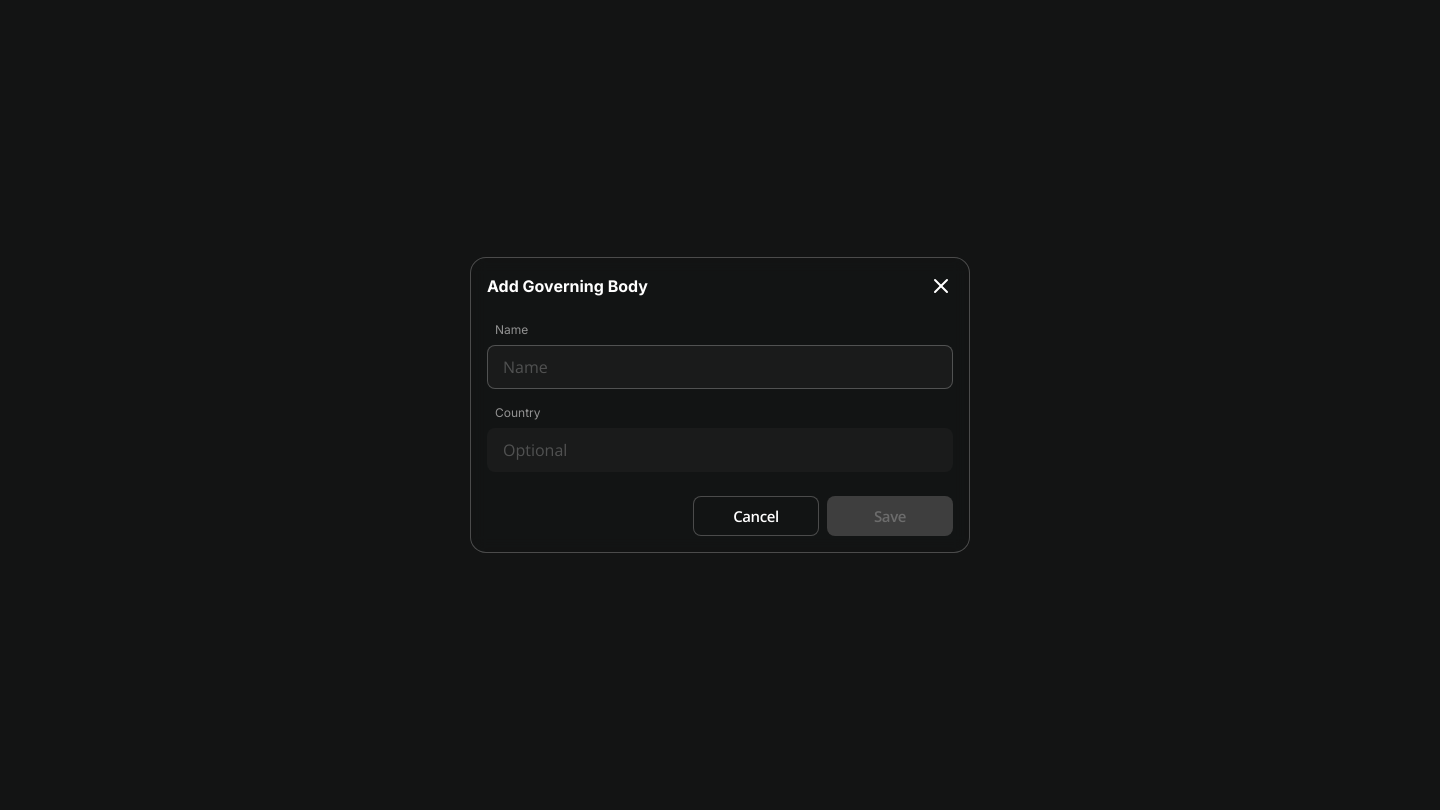
Test: EntityFormDialogComponent › asks for a name once the field has been typed in and cleared
Type "x" into the field with id "entity-name".
click(720, 367); type("x")  # box [503,345,937,389]
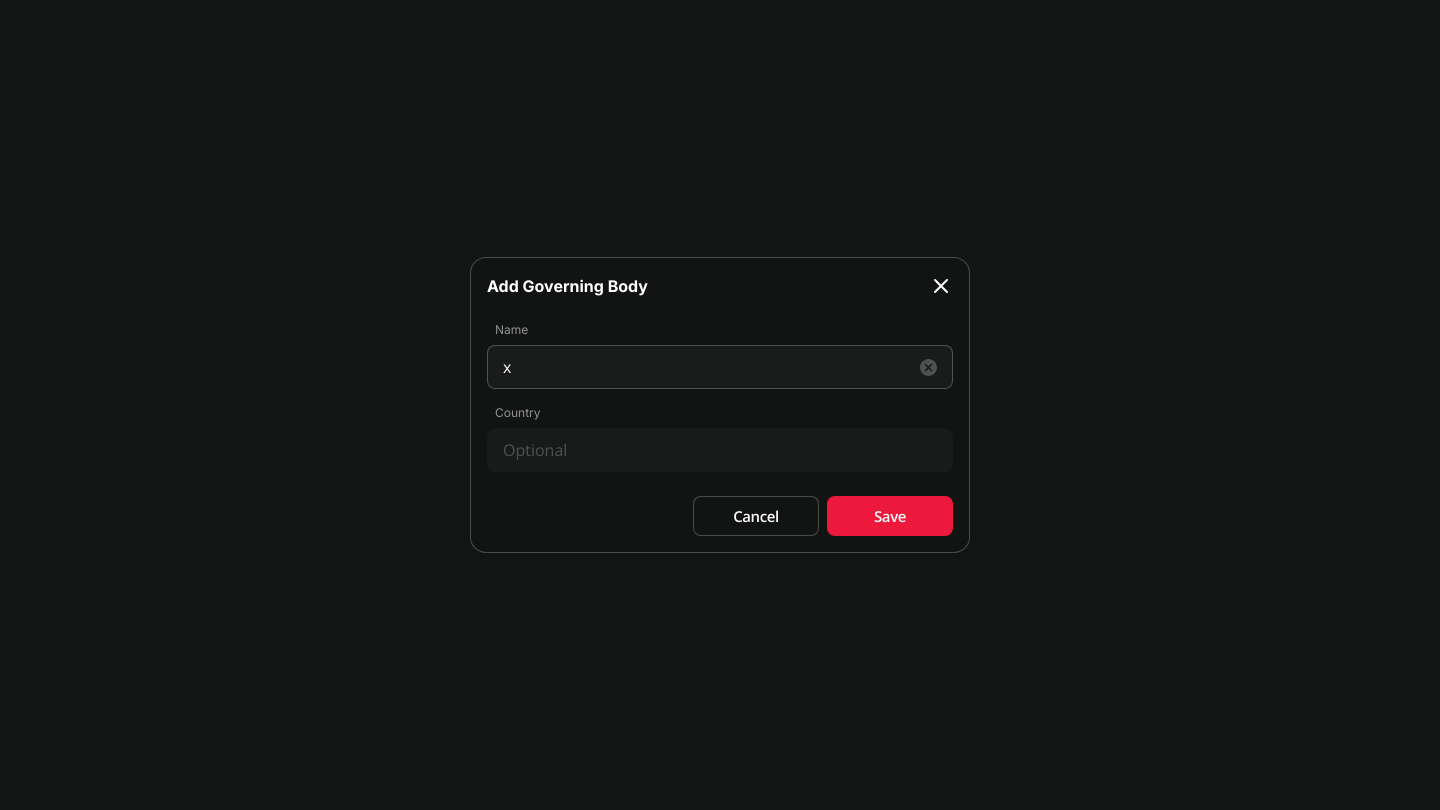
Clear the field with id "entity-name" at (708, 367), box [503,345,912,389]
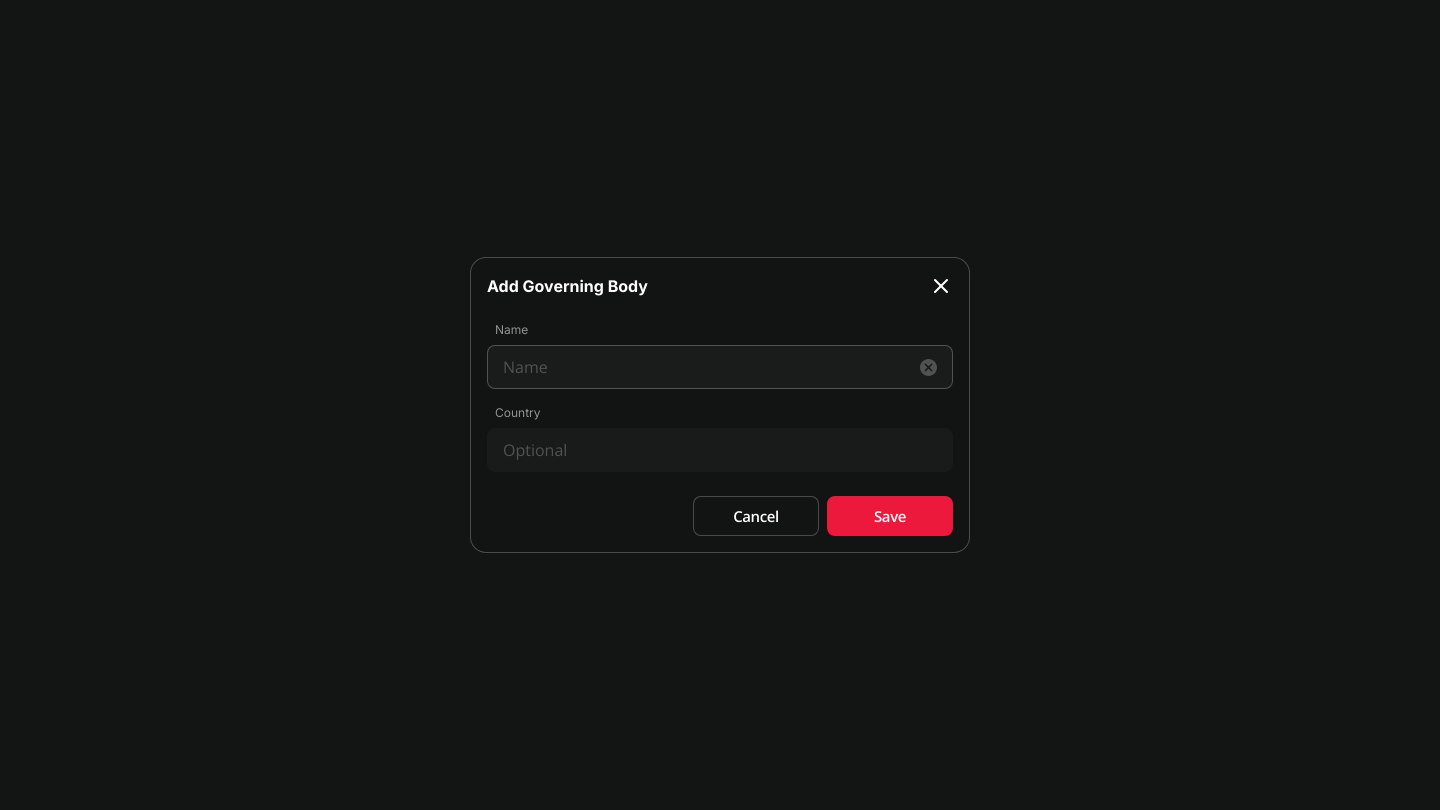
Leave the field with id "entity-name", box [503,345,912,389]
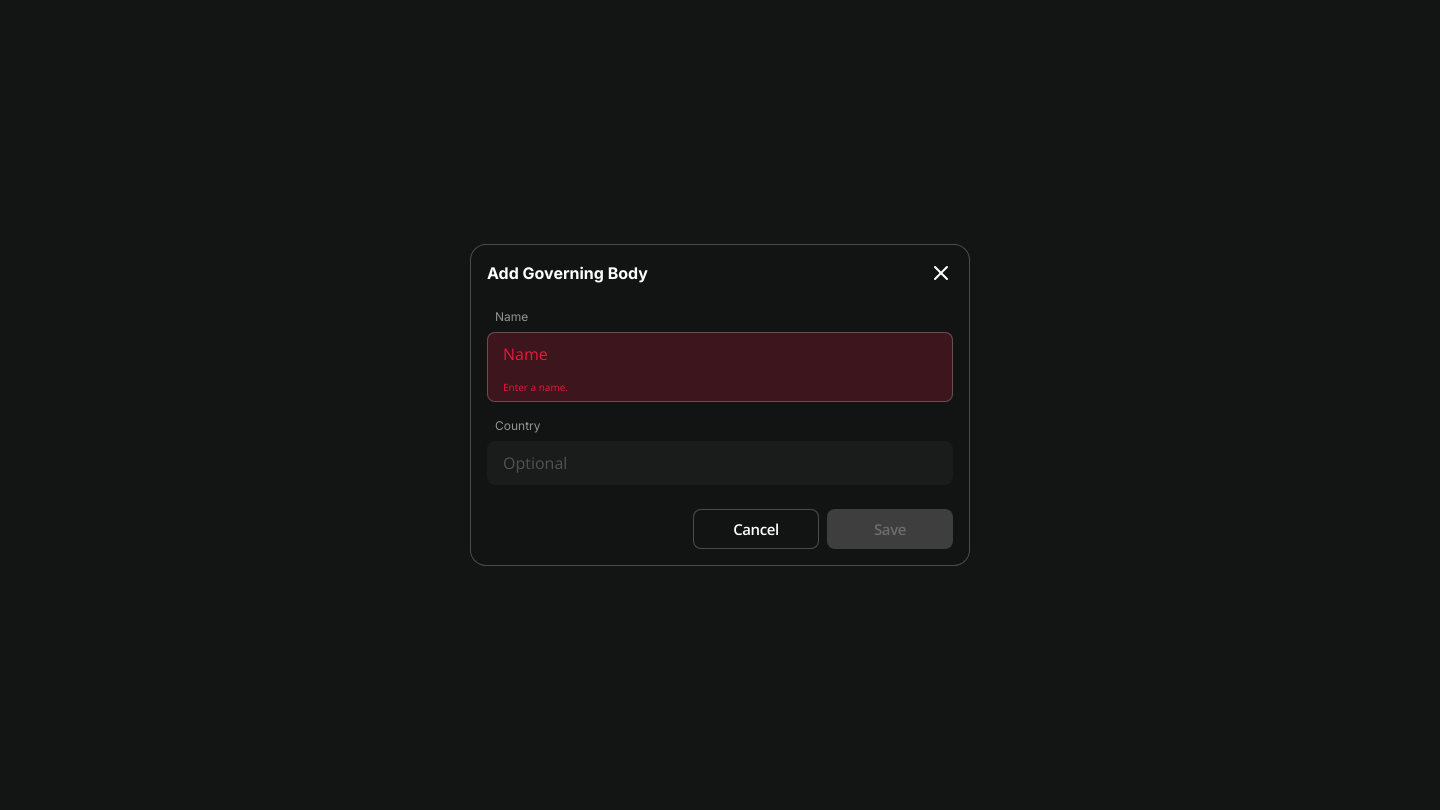
Check: the text "Enter a name." is shown, box [503,380,568,394]
Check: the submit button is disabled, box [827,509,953,549]
